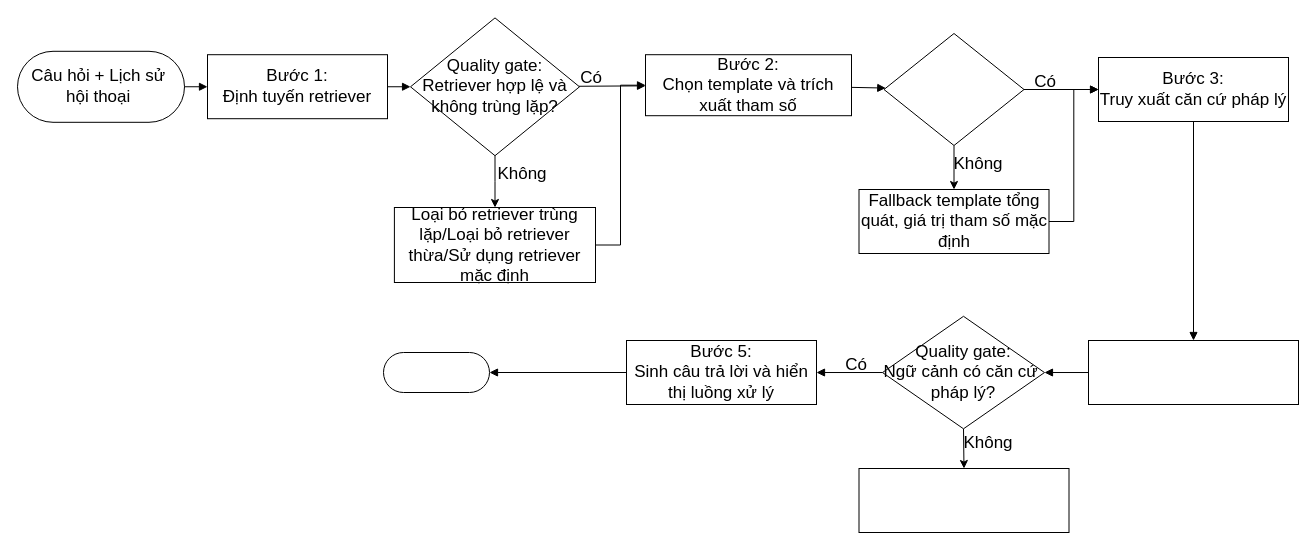
This 1316x550 diagram has some shape labels left out. Here are the shapes that lost their labels. From the top down, the centre of each, then its label:
(x=953, y=89): Quality gate: Template/tham số hợp lệ?
(x=436, y=372): Câu trả lời
(x=1193, y=372): Bước 4: Chuẩn hóa ngữ cảnh pháp lý
(x=963, y=500): Yêu cầu người dùng đặt câu hỏi khác/bổ sung thêm thông tin
